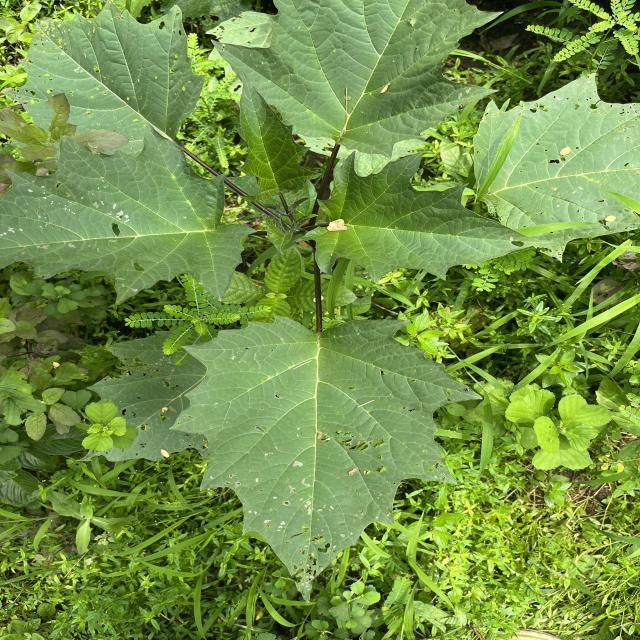Datura metal linn: (166, 312, 487, 608), (208, 0, 506, 163), (2, 120, 260, 308), (294, 148, 561, 286), (471, 70, 640, 266), (0, 0, 208, 158), (233, 64, 324, 204)
